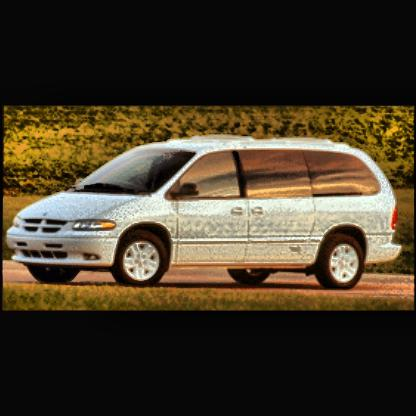Dodge Caravan Minivan 1997: (8, 135, 404, 290)
